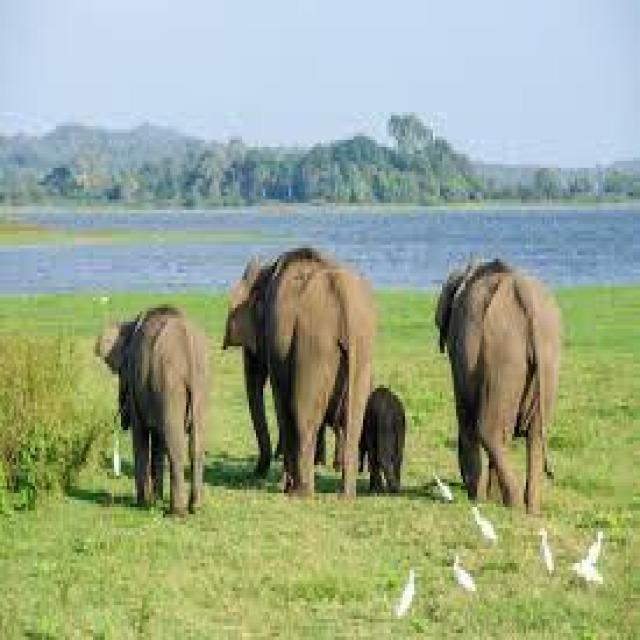Elephant: (221, 248, 410, 497), (435, 255, 561, 514), (93, 294, 212, 518), (368, 378, 405, 490)
